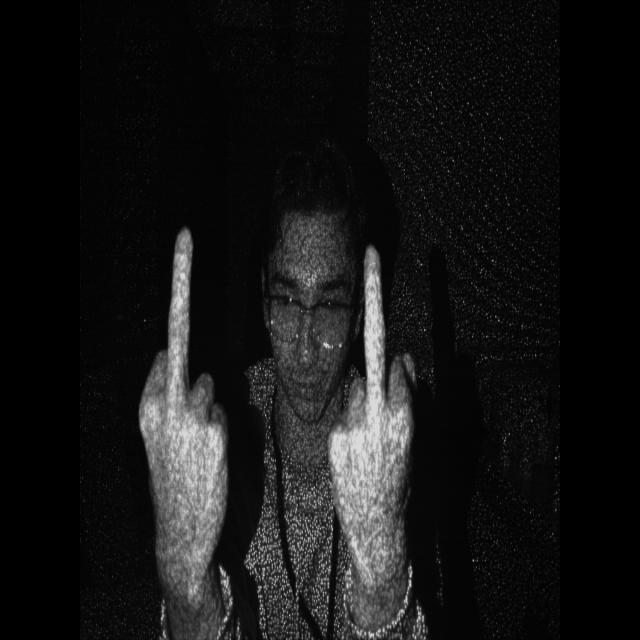FUCK YOU: (322, 221, 437, 619), (133, 211, 240, 575)
